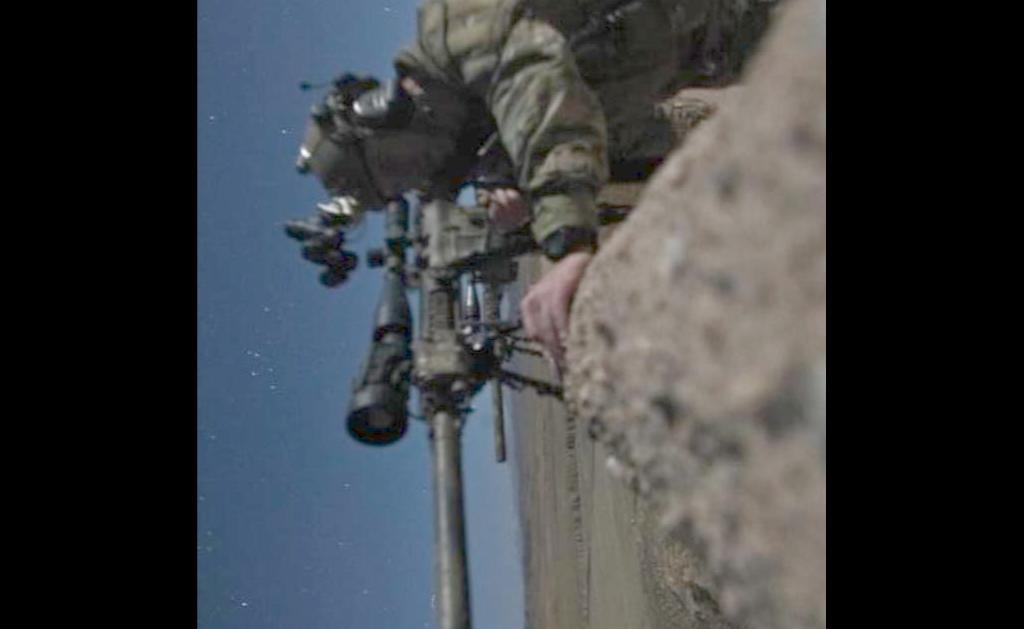gun: (345, 178, 558, 629)
